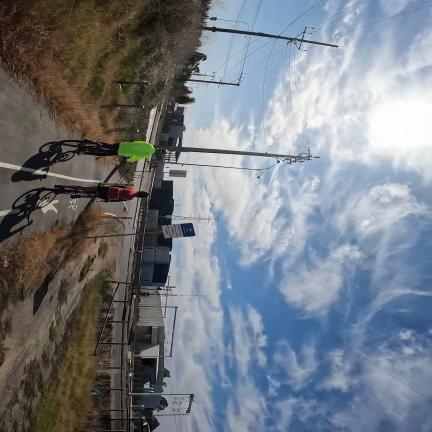Bike_Lane: (0, 68, 110, 247)
